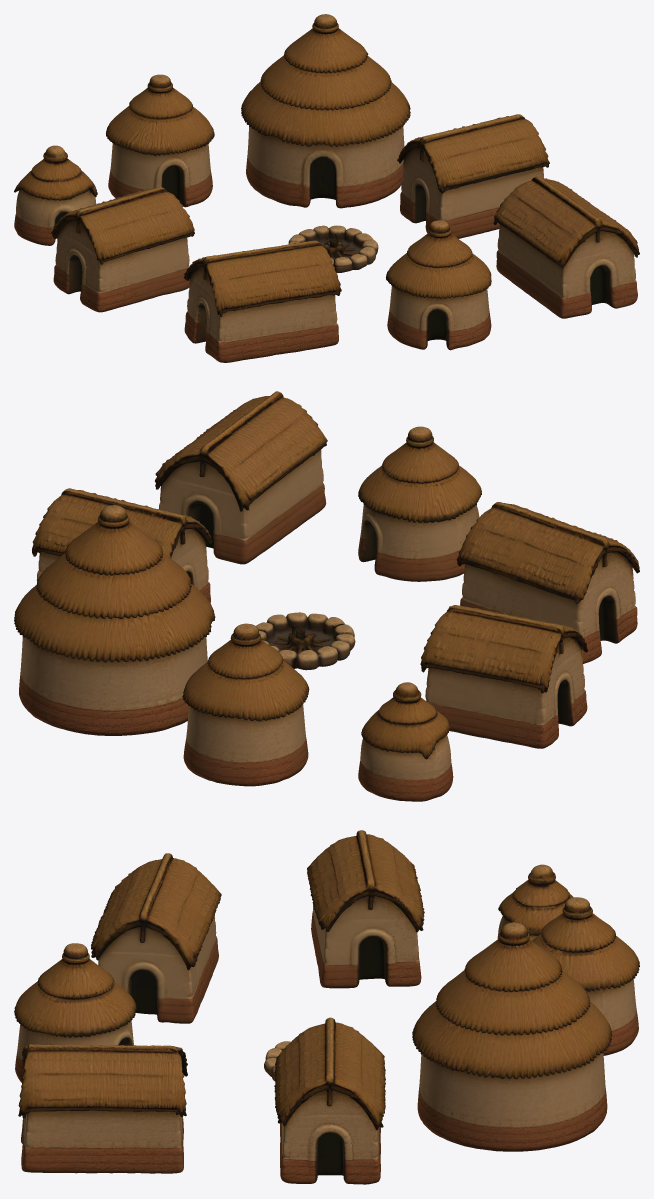
File: Prehistoric Village (West African).fbx
3 renders of one model, top to bottom at view 1: azimuth 30°, elevation 25°; view 2: azimuth 150°, elevation 25°; view 3: azimuth 270°, elevation 25°, orthographic. The views are drawn at different scales.
Parts seen in each view (by area): view 1: tripo_node_f6c18b15; view 2: tripo_node_f6c18b15; view 3: tripo_node_f6c18b15.
Boxes of the visible parts, x1=… form: tripo_node_f6c18b15: x1=14, y1=14, x2=639, y2=362; tripo_node_f6c18b15: x1=14, y1=391, x2=639, y2=801; tripo_node_f6c18b15: x1=14, y1=830, x2=639, y2=1184.
Size of the model in its own units: 0.9717 by 0.3342 by 1.
